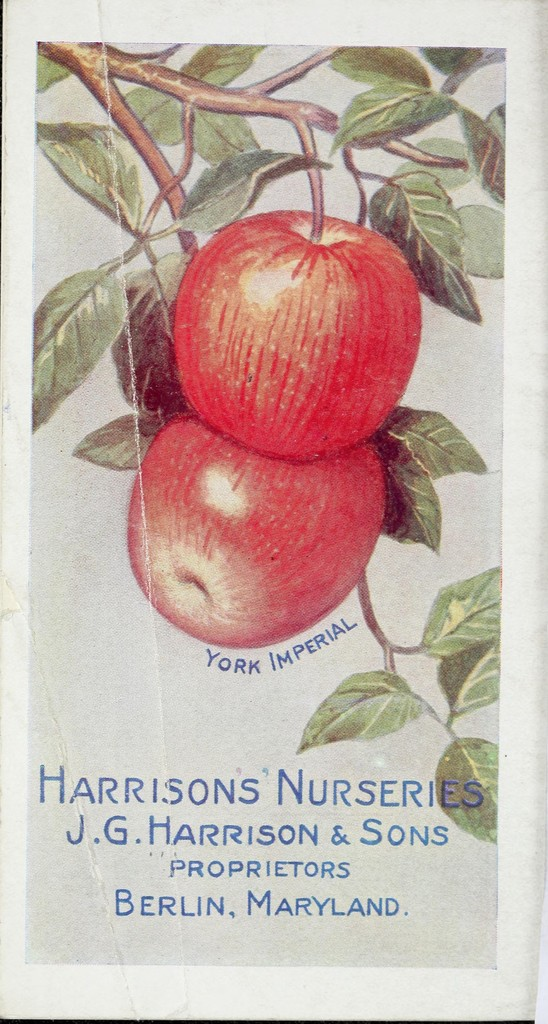Apple: (156, 196, 432, 446), (126, 408, 393, 653)
